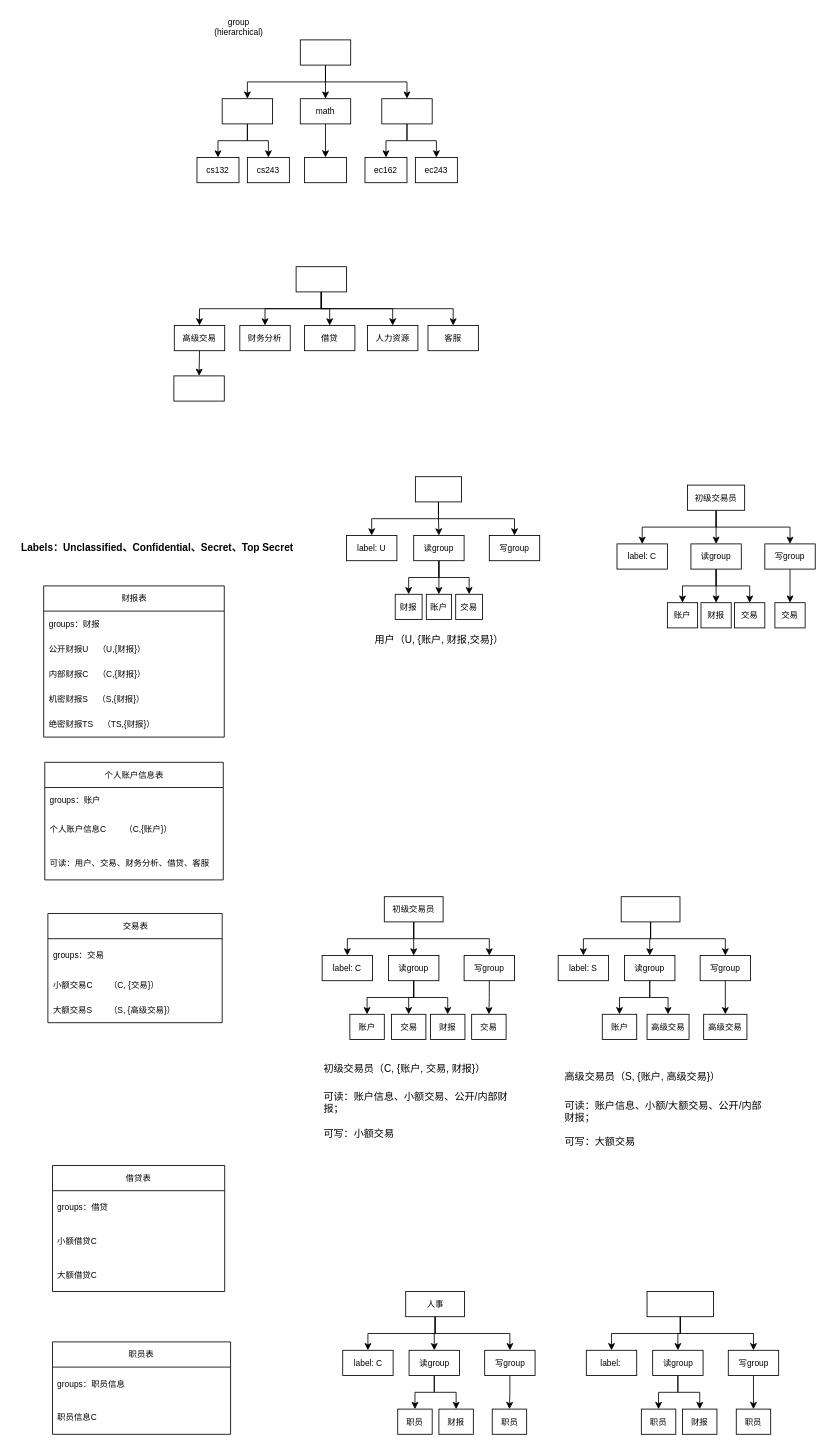
Image size: 830x1449. Some labels were removed from this diagram. The shapes that lost their labels are listed below. From the top down, each one's centre as x and y in pixels, then its label:
the point at 325,52: nus
the point at 247,111: mcomp
the point at 406,111: economics
the point at 325,170: ma156
the point at 320,279: 银行董事
the point at 198,388: 初级交易
the point at 438,489: 用户
the point at 650,909: 高级交易员
the point at 680,1304: 人力资源经理
